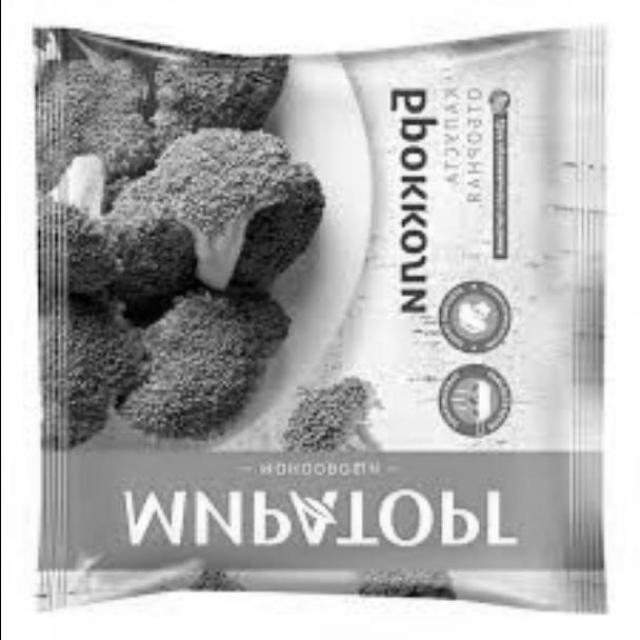bong cai xanh: (63, 68, 211, 294), (117, 312, 310, 451), (126, 139, 282, 301), (149, 45, 285, 168), (269, 364, 390, 474)
